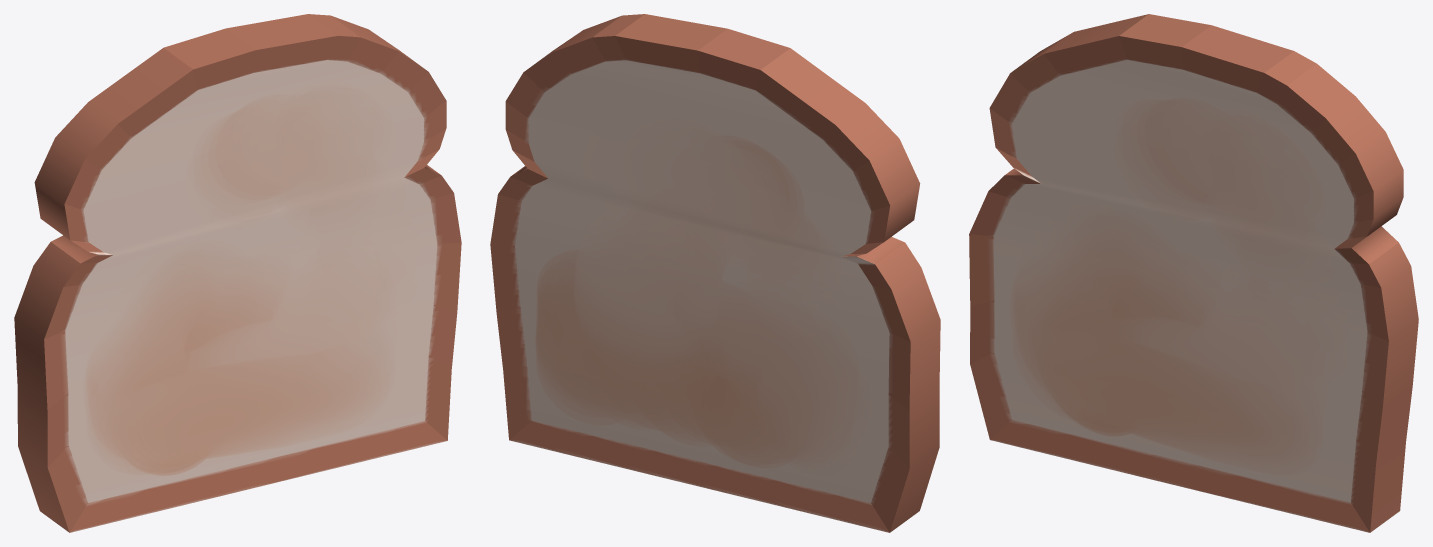
Rendered from Bread_tex.fbx.
The picture shows the model from 3 angles, left to right: view 1: azimuth 30°, elevation 25°; view 2: azimuth 150°, elevation 25°; view 3: azimuth 330°, elevation 25°; orthographic projection.
Visible parts, largest first — view 1: pCube1; view 2: pCube1; view 3: pCube1.
Boxes of the visible parts, bbox=[...] form: pCube1: bbox=[14, 14, 461, 532]; pCube1: bbox=[490, 14, 940, 532]; pCube1: bbox=[969, 14, 1418, 532].
Bounding box in the file's own units: 4.29 × 4.27 × 0.5781.
1 material, 1 textured.
